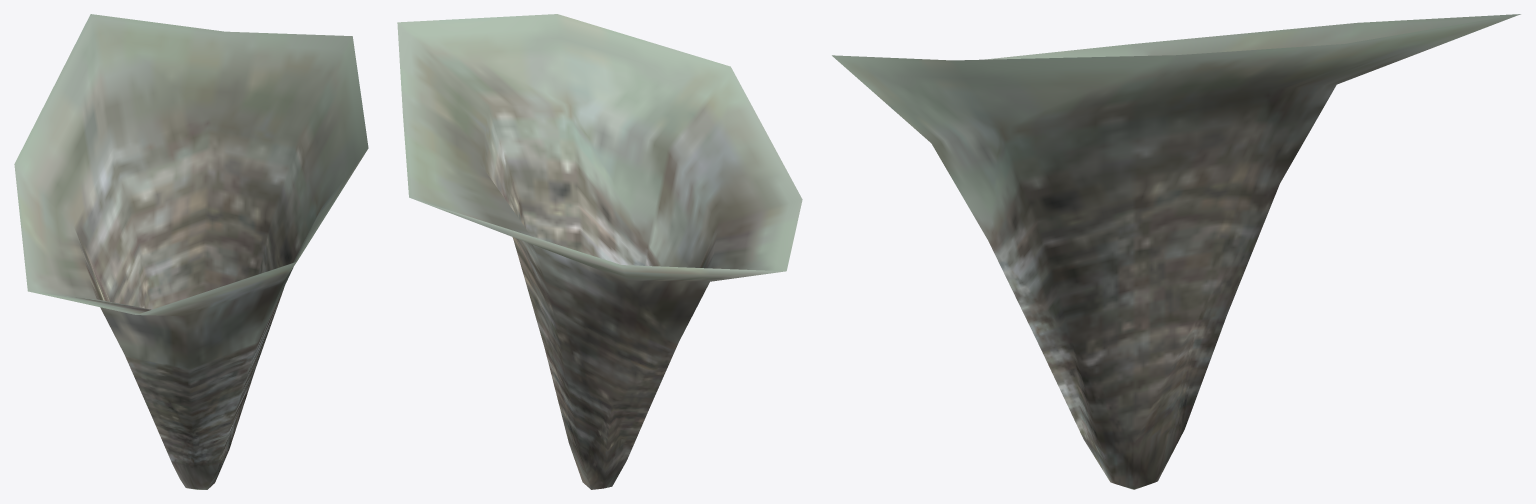
Rendered from TROLLHOLE02_PS-SECRETSTALAG27.fbx.
The picture shows the model from 3 angles, left to right: view 1: azimuth 30°, elevation 25°; view 2: azimuth 150°, elevation 25°; view 3: azimuth 270°, elevation 25°; orthographic projection. The views are drawn at different scales.
Parts seen in each view (by area): view 1: TROLLHOLE02_PS-SECRETSTALAG27; view 2: TROLLHOLE02_PS-SECRETSTALAG27; view 3: TROLLHOLE02_PS-SECRETSTALAG27.
Boxes of the visible parts, box(x1,y1,x2,y2) form: TROLLHOLE02_PS-SECRETSTALAG27: box(14, 14, 368, 489); TROLLHOLE02_PS-SECRETSTALAG27: box(397, 14, 802, 489); TROLLHOLE02_PS-SECRETSTALAG27: box(832, 14, 1520, 489).
Size of the model in its own units: 16049 by 17954 by 20454.
Materials: 1 (1 with a texture image).
